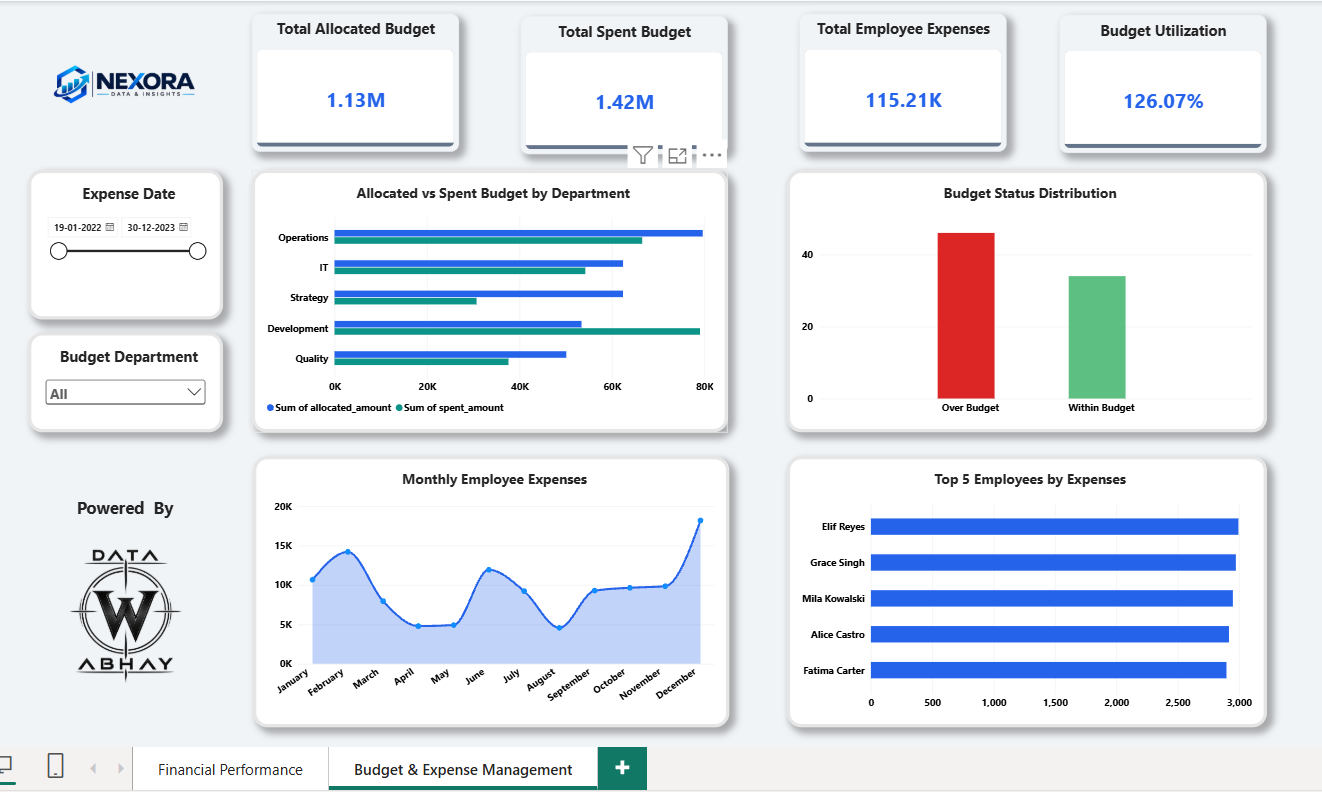

This screenshot's page, from the dashboard's own definition file:
{"tool":"powerbi","page":{"name":"Budget & Expense Management","canvas":[1920,1080],"ordinal":1},"visuals":[{"type":"cardVisual","title":"Total Allocated Budget","fields":{"Data":["Sum(financial_transaction_insights_v5_csv_budgets.allocated_amount)"]},"box":[367.4,18.1,300,200],"z":0},{"type":"cardVisual","title":"Total Spent Budget","fields":{"Data":["Sum(financial_transaction_insights_v5_csv_budgets.spent_amount)"]},"box":[756.4,21.7,300,200],"z":1000},{"type":"cardVisual","title":"Total Employee Expenses","fields":{"Data":["Sum(financial_transaction_insights_v5_csv_employee_expenses.amount)"]},"box":[1160,18.1,300,200],"z":2000},{"type":"cardVisual","title":"Budget Utilization","fields":{"Data":["financial_transaction_insights_v5_csv_budgets.Budget Utilization %"]},"box":[1536.4,19.9,300,200],"z":3000},{"type":"clusteredBarChart","title":"Allocated vs Spent Budget by Department","fields":{"Category":["financial_transaction_insights_v5_csv_budgets.department"],"Y":["Sum(financial_transaction_insights_v5_csv_budgets.allocated_amount)","Sum(financial_transaction_insights_v5_csv_budgets.spent_amount)"]},"box":[367.4,244.3,689.5,380],"z":4000},{"type":"clusteredColumnChart","title":"Budget Status Distribution","fields":{"Category":["financial_transaction_insights_v5_csv_budgets.Budget_Status"],"Y":["Count(financial_transaction_insights_v5_csv_budgets.id)"]},"box":[1141.9,244.3,694.9,380],"z":5000},{"type":"lineChart","title":"Monthly Employee Expenses","fields":{"Category":["financial_transaction_insights_v5_csv_employee_expenses.expense_date.Variation.Date Hierarchy.Month"],"Y":["Sum(financial_transaction_insights_v5_csv_employee_expenses.amount)"]},"box":[369.2,658.7,689.5,392.7],"z":6000},{"type":"clusteredBarChart","title":"Top 5 Employees by Expenses","fields":{"Category":["financial_transaction_insights_v5_csv_employee_expenses.employee_name"],"Y":["Sum(financial_transaction_insights_v5_csv_employee_expenses.amount)"]},"box":[1141.9,658.7,694.9,392.7],"z":7000},{"type":"slicer","title":"Budget Department","fields":{"Values":["financial_transaction_insights_v5_csv_budgets.department"]},"box":[43.4,479.6,282.3,144.8],"z":7001},{"type":"slicer","title":"Expense Date","fields":{"Values":["financial_transaction_insights_v5_csv_employee_expenses.expense_date"]},"box":[43.4,244.3,282.3,217.2],"z":7002},{"type":"image","box":[72.4,23.5,222.6,193.6],"z":7003},{"type":"textbox","box":[23.5,716.6,320.3,52.5],"z":7005},{"type":"image","box":[59.7,716.6,247.9,334.8],"z":7006}]}

Visuals, with their boxes on the page's 1920x1080 design canvas (x1, y1, x2, y2). These are canvas units, not pixel positions in the 1322x792 screenshot, which may show the page scaled, cropped or inside an application window:
"Total Allocated Budget" cardVisual: <region>367, 18, 667, 218</region>
"Total Spent Budget" cardVisual: <region>756, 22, 1056, 222</region>
"Total Employee Expenses" cardVisual: <region>1160, 18, 1460, 218</region>
"Budget Utilization" cardVisual: <region>1536, 20, 1836, 220</region>
"Allocated vs Spent Budget by Department" clusteredBarChart: <region>367, 244, 1057, 624</region>
"Budget Status Distribution" clusteredColumnChart: <region>1142, 244, 1837, 624</region>
"Monthly Employee Expenses" lineChart: <region>369, 659, 1059, 1051</region>
"Top 5 Employees by Expenses" clusteredBarChart: <region>1142, 659, 1837, 1051</region>
"Budget Department" slicer: <region>43, 480, 326, 624</region>
"Expense Date" slicer: <region>43, 244, 326, 462</region>
image: <region>72, 24, 295, 217</region>
textbox: <region>24, 717, 344, 769</region>
image: <region>60, 717, 308, 1051</region>
